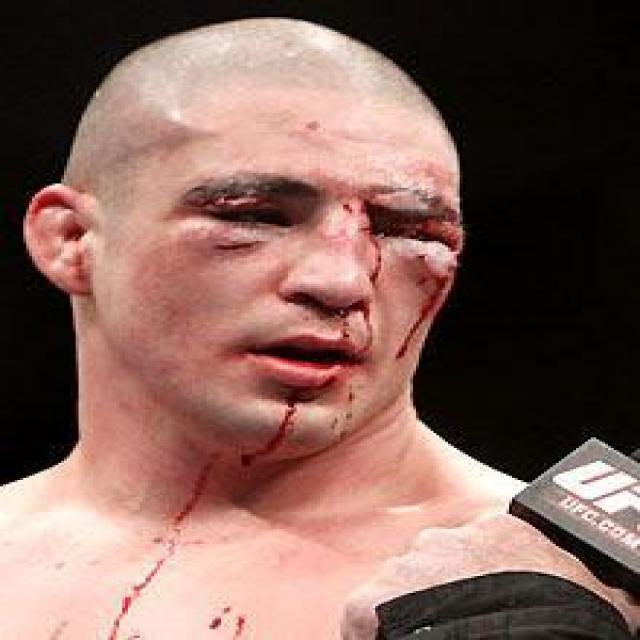flood: (346, 214, 469, 360), (205, 392, 326, 478)
